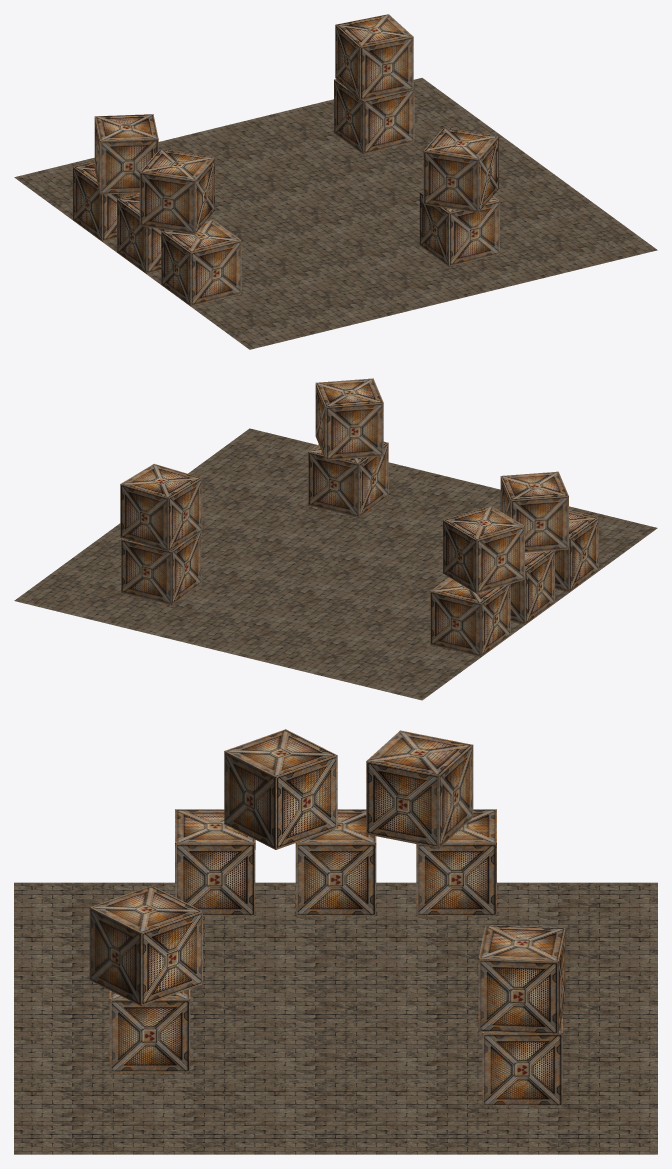
Rendered from crate_land.obj.
The picture shows the model from 3 angles, top to bottom: view 1: azimuth 30°, elevation 25°; view 2: azimuth 150°, elevation 25°; view 3: azimuth 270°, elevation 25°; orthographic projection. The views are drawn at different scales.
Parts seen in each view (by area): view 1: Plane, Cube.005, Cube.003, Cube.001, Cube.008, Cube.004, Cube.006, Cube.007, Cube.002, Cube; view 2: Plane, Cube.005, Cube.004, Cube.008, Cube.002, Cube.003, Cube.007, Cube.006, Cube.001, Cube; view 3: Plane, Cube.003, Cube.008, Cube.004, Cube.005, Cube.001, Cube, Cube.002, Cube.007, Cube.006.
Boxes of the visible parts, x1,y1,x2,y2 form: Plane: (14,78,657,349); Cube.005: (335,14,413,100); Cube.003: (139,149,215,234); Cube.001: (161,219,241,306); Cube.008: (423,127,498,212); Cube.004: (94,114,158,194); Cube.006: (334,79,414,154); Cube.007: (419,191,499,266); Cube.002: (73,161,139,241); Cube: (117,193,166,273); Plane: (14,428,657,700); Cube.005: (120,464,202,551); Cube.004: (443,506,524,593); Cube.008: (315,378,383,460); Cube.002: (430,577,510,656); Cube.003: (500,471,568,552); Cube.007: (308,441,388,517); Cube.006: (121,532,201,604); Cube.001: (555,510,598,592); Cube: (510,550,554,624); Plane: (14,882,657,1154); Cube.003: (224,729,337,849); Cube.008: (89,885,202,1006); Cube.004: (366,730,473,848); Cube.005: (478,925,565,1034); Cube.001: (175,809,255,916); Cube: (295,809,376,916); Cube.002: (416,809,496,916); Cube.007: (109,989,190,1072); Cube.006: (482,1016,562,1106).
Size of the model in its own units: 4.92 by 1.21 by 4.8.
Materials: 2 (2 with a texture image).
